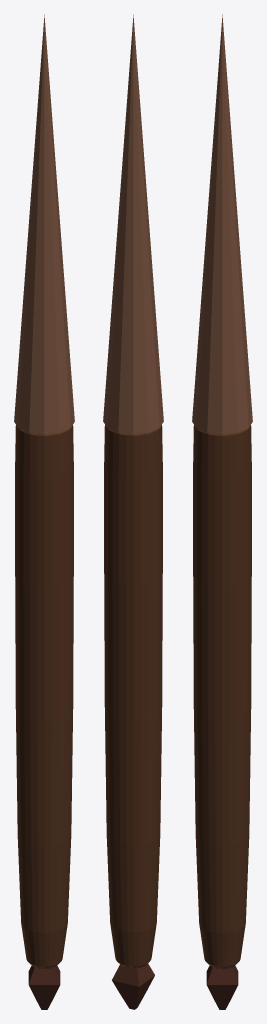
The model's file is Wand 25.glb.
3 views of the same model, side by side, from view 1: azimuth 90°, elevation 25°; view 2: azimuth 150°, elevation 25°; view 3: azimuth 270°, elevation 25° (orthographic).
Visible parts, largest first — view 1: GeneratedWand; view 2: GeneratedWand; view 3: GeneratedWand.
Part boxes in pixels (x1,y1,x2,y2): GeneratedWand: (14, 14, 74, 1009); GeneratedWand: (103, 14, 163, 1009); GeneratedWand: (192, 14, 252, 1009).
Bounding box in the file's own units: 0.0282 × 0.5087 × 0.0282.
